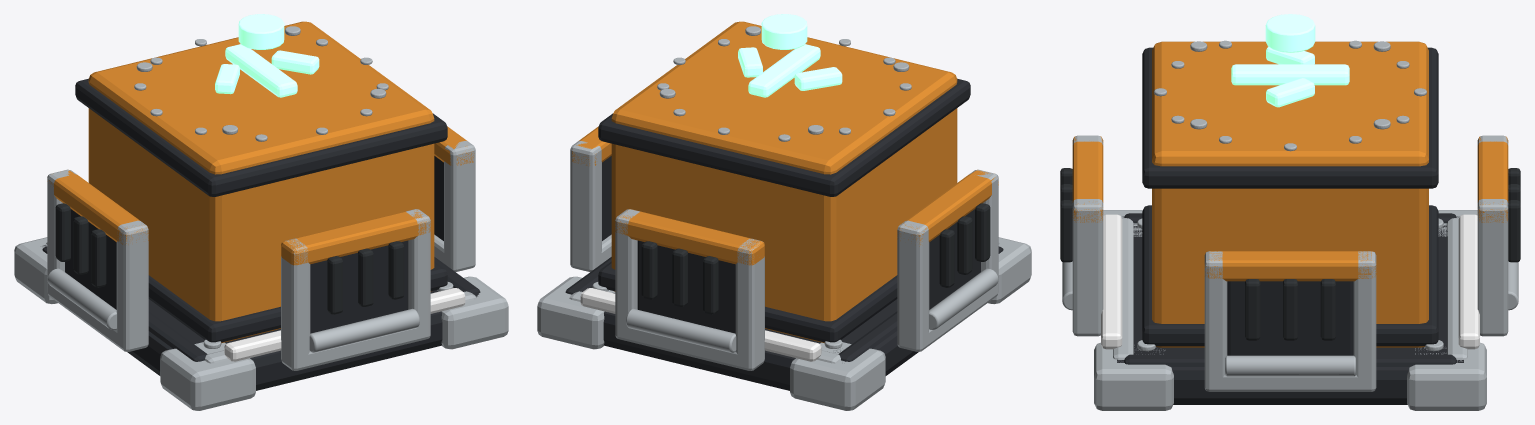
The model's file is splitter.glb.
3 views of the same model, side by side, from view 1: azimuth 30°, elevation 25°; view 2: azimuth 150°, elevation 25°; view 3: azimuth 270°, elevation 25° (orthographic). The views are drawn at different scales.
Visible parts, largest first — view 1: Main_Body, StatusLens; view 2: Main_Body, StatusLens; view 3: Main_Body, StatusLens.
Part boxes in pixels (x1=…): Main_Body: x1=14, y1=21, x2=508, y2=410; StatusLens: x1=238, y1=14, x2=284, y2=49; Main_Body: x1=537, y1=21, x2=1031, y2=410; StatusLens: x1=761, y1=14, x2=807, y2=49; Main_Body: x1=1060, y1=40, x2=1520, y2=410; StatusLens: x1=1265, y1=14, x2=1315, y2=52.
Bounding box in the file's own units: 2.41 × 1.78 × 2.41.
